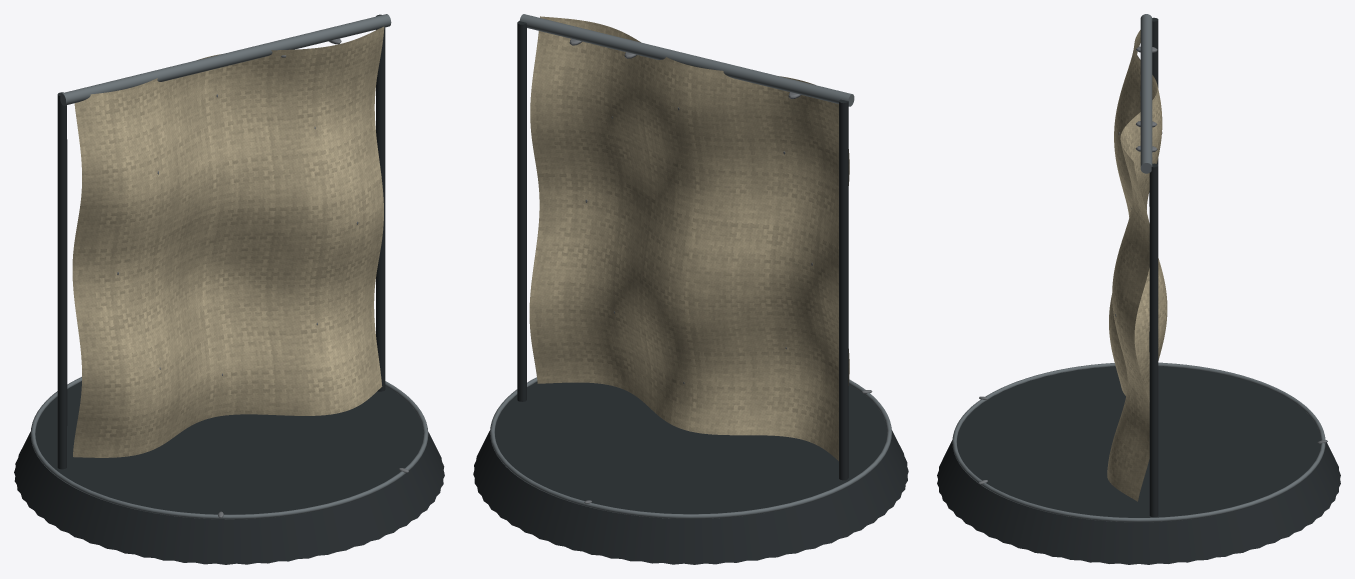
3 views of the same model, side by side, from view 1: azimuth 30°, elevation 25°; view 2: azimuth 150°, elevation 25°; view 3: azimuth 270°, elevation 25° (orthographic). The views are drawn at different scales.
Parts seen in each view (by area): view 1: surface specimen, neutral specimen stand, specimen edge; view 2: surface specimen, neutral specimen stand, specimen edge; view 3: neutral specimen stand, surface specimen, specimen edge.
Boxes of the visible parts, x1,y1,x2,y2 form: surface specimen: [72, 26, 384, 457]; neutral specimen stand: [14, 14, 444, 564]; specimen edge: [30, 14, 428, 519]; surface specimen: [529, 16, 849, 460]; neutral specimen stand: [473, 21, 908, 564]; specimen edge: [490, 14, 891, 518]; neutral specimen stand: [937, 17, 1340, 564]; surface specimen: [1107, 30, 1167, 501]; specimen edge: [952, 14, 1325, 522].
Size of the model in its own units: 0.539 by 0.576 by 0.539.
Materials: 4 (1 with a texture image).
